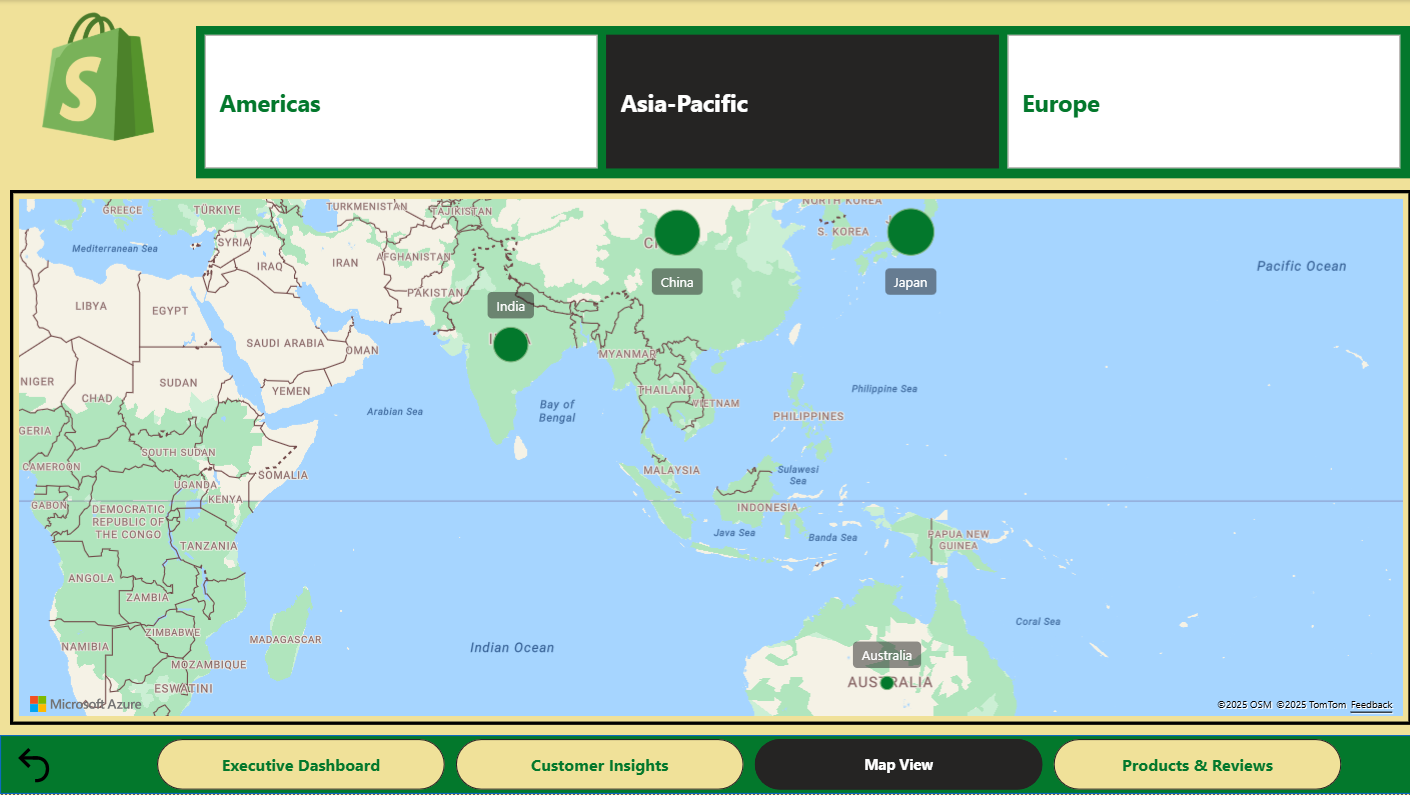

The page's visual inventory and layout, read from the dashboard file:
{"tool":"powerbi","page":{"name":"Map View","canvas":[1280,720],"ordinal":2},"visuals":[{"type":"azureMap","fields":{"Category":["Customers Table.COUNTRY"],"Size":["Measures Table.Net Revenue"]},"box":[9.1,172.3,1271.3,485.1],"z":0},{"type":"advancedSlicerVisual","fields":{"Values":["Region Lookup.Region Hierarchy.Region"]},"box":[177.7,23.6,1102.7,137.8],"z":3000},{"type":"image","box":[0,4.5,177.7,129.7],"z":3001},{"type":"shape","box":[0,666.5,1280.4,53.5],"z":3002},{"type":"actionButton","box":[10,672.8,47.2,41.7],"z":3003},{"type":"bookmarkNavigator","box":[142.4,670.1,1074.6,46.2],"z":3004}]}

Visuals, with their boxes in screenshot pixels (x1, y1, x2, y2), scaled from the page's 1280x720 canvas onto the 1410x795 screenshot:
azureMap - Customers Table.COUNTRY x Measures Table.Net Revenue: crop(10, 190, 1409, 726)
advancedSlicerVisual - Region Lookup.Region Hierarchy.Region: crop(196, 26, 1409, 178)
image: crop(0, 5, 196, 148)
shape: crop(0, 736, 1409, 794)
actionButton: crop(11, 743, 63, 789)
bookmarkNavigator: crop(157, 740, 1341, 791)
